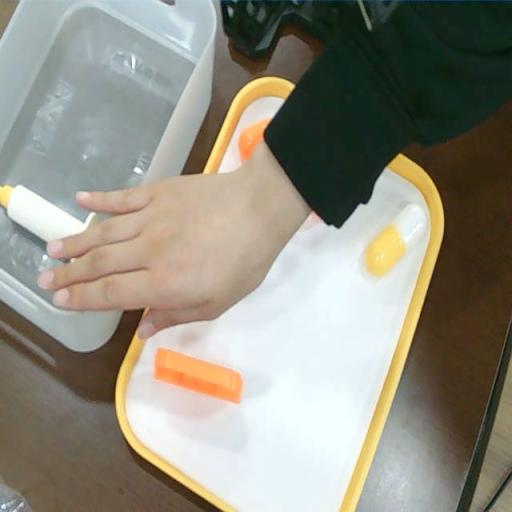hospital: (35, 166, 284, 346)
